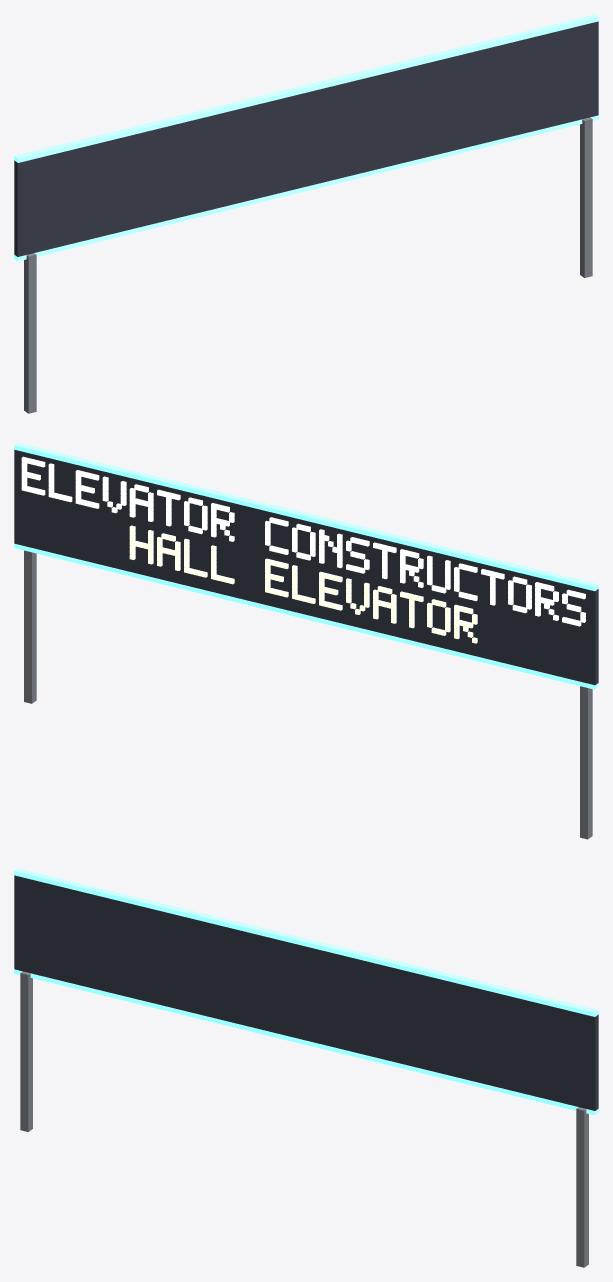
Rendered from wing-sign-hall-elevator.glb.
3 views of the same model, one above another, from view 1: azimuth 30°, elevation 25°; view 2: azimuth 150°, elevation 25°; view 3: azimuth 330°, elevation 25° (orthographic).
Parts seen in each view (by area): view 1: Sign · Elevator Constructors; view 2: Sign · Elevator Constructors; view 3: Sign · Elevator Constructors.
Boxes of the visible parts, bbox=[...] form: Sign · Elevator Constructors: bbox=[14, 14, 598, 413]; Sign · Elevator Constructors: bbox=[14, 442, 598, 839]; Sign · Elevator Constructors: bbox=[14, 868, 598, 1267].
Size of the model in its own units: 11.61 by 4.88 by 0.254.
